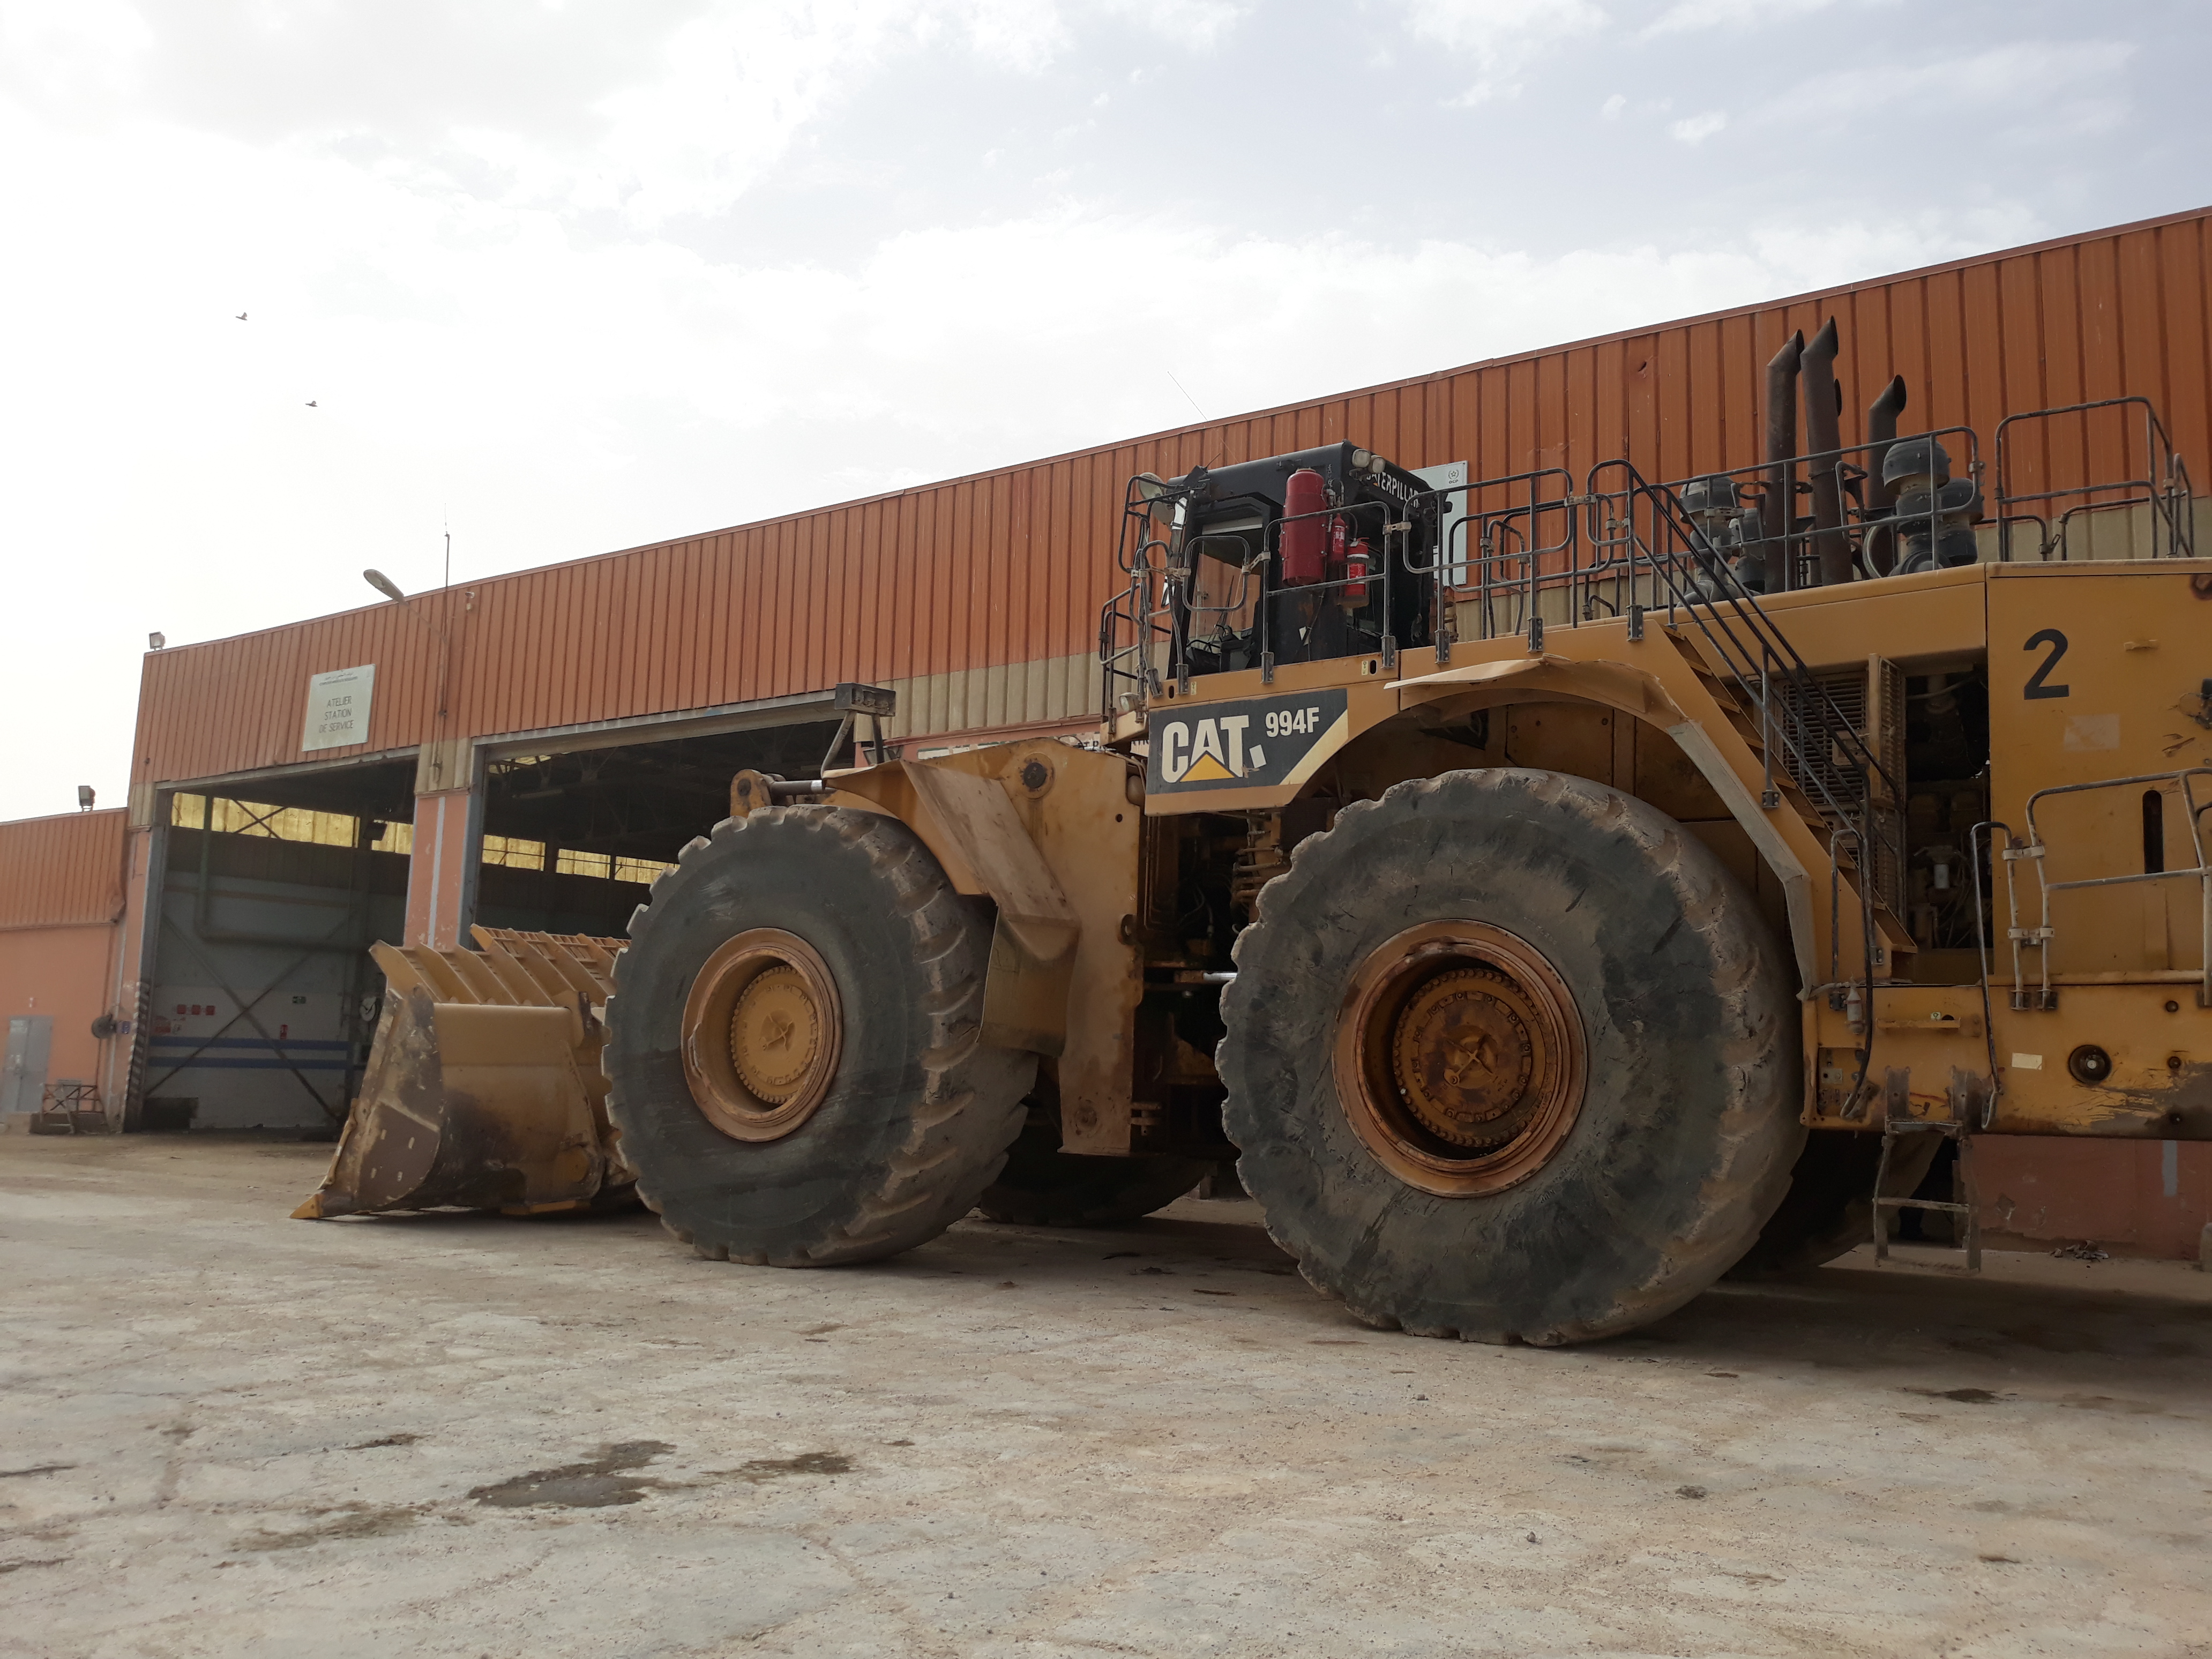chargeuse: (296, 326, 2212, 1364)
